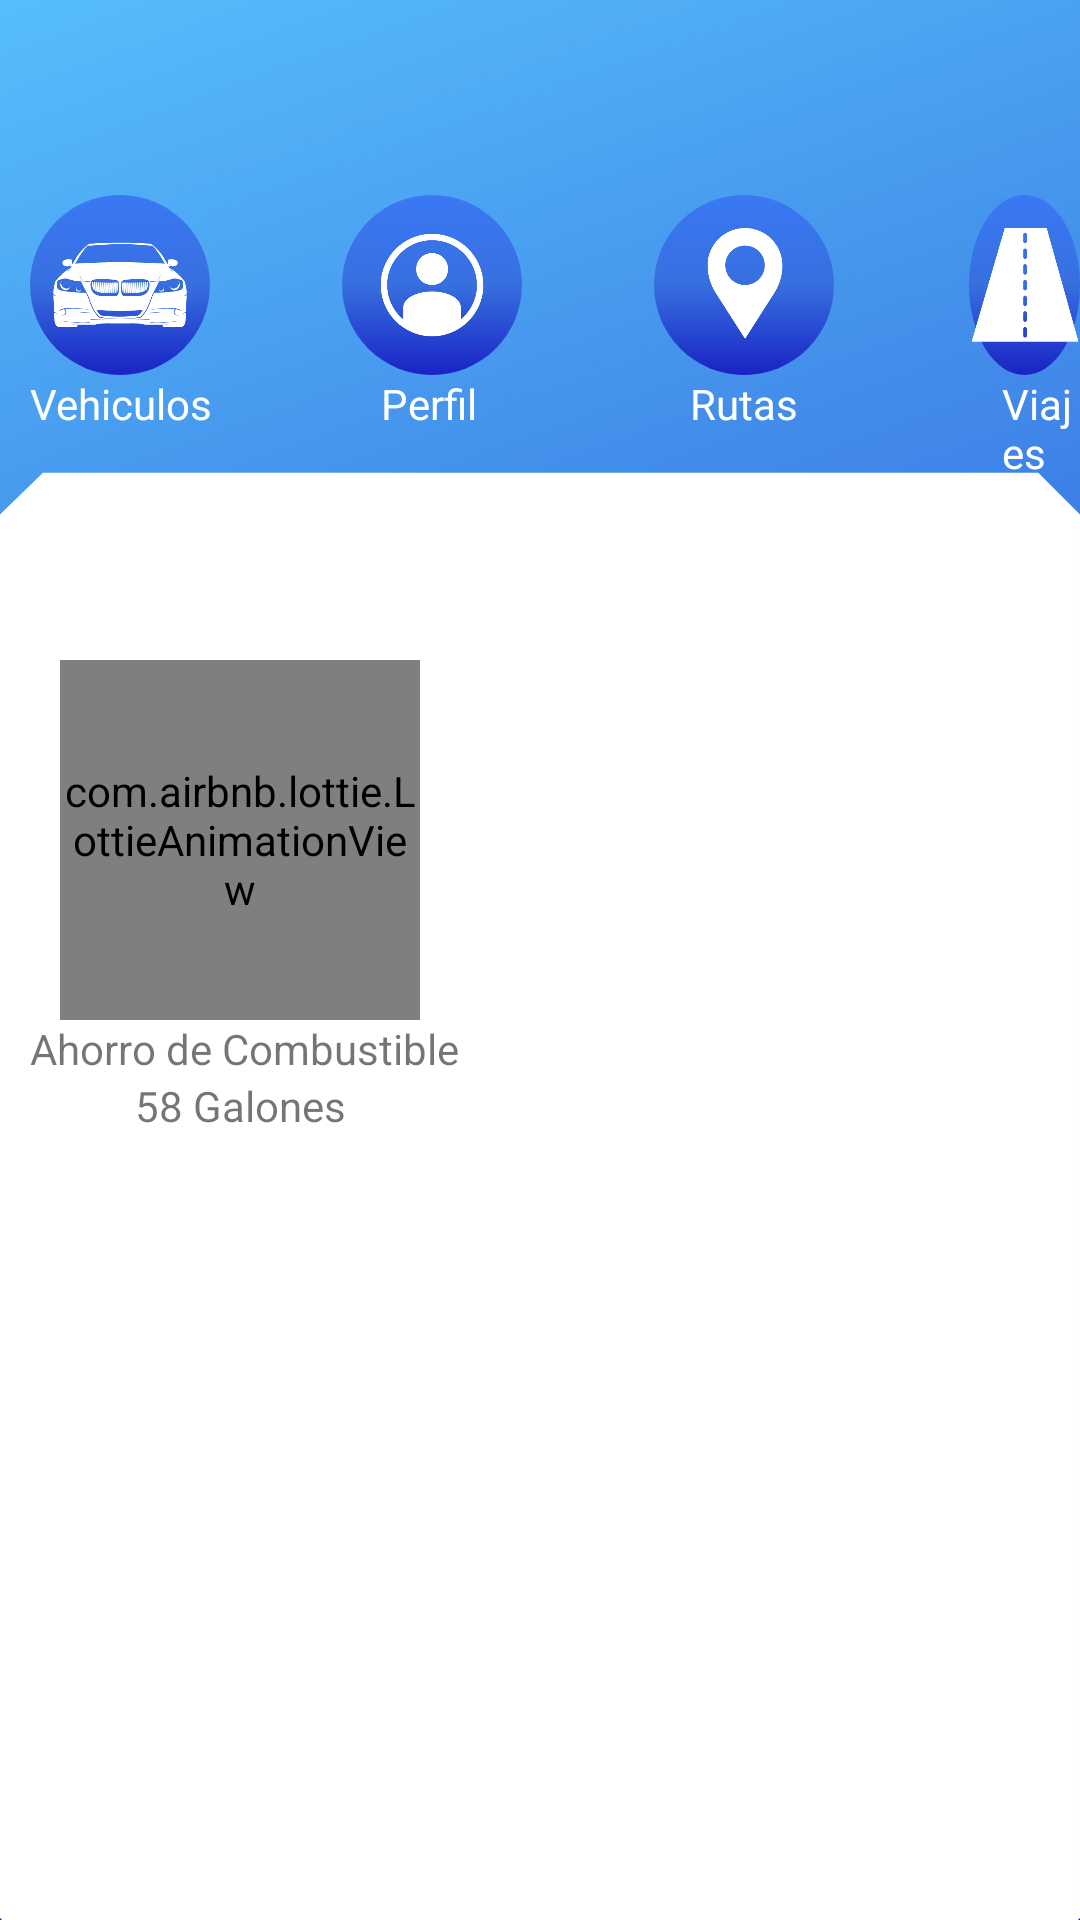

Where icons sit on this 1080x1920 app screen, as BBox(x1, y1, x2, y2):
pointer: BBox(654, 195, 834, 375)
road: BBox(969, 228, 1080, 375)
